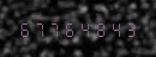eight: (92, 20, 106, 37)
four: (77, 20, 91, 37), (107, 20, 121, 37)
seven: (32, 20, 46, 37), (47, 20, 61, 37)
six: (17, 20, 31, 37), (62, 20, 76, 37)
three: (122, 20, 136, 37)
